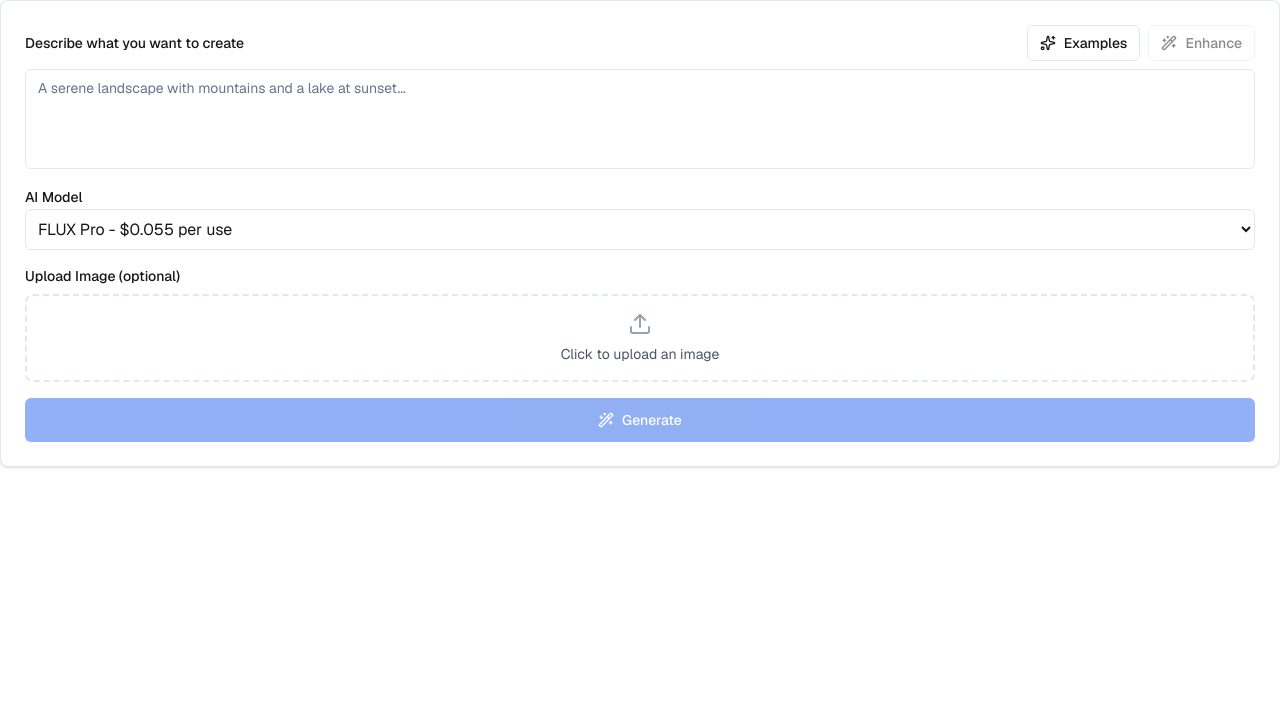
Test: PromptInput Component › shows examples when Examples button is clicked
Click the button "Examples". click: (1084, 43)
box: [1027,25,1140,61]
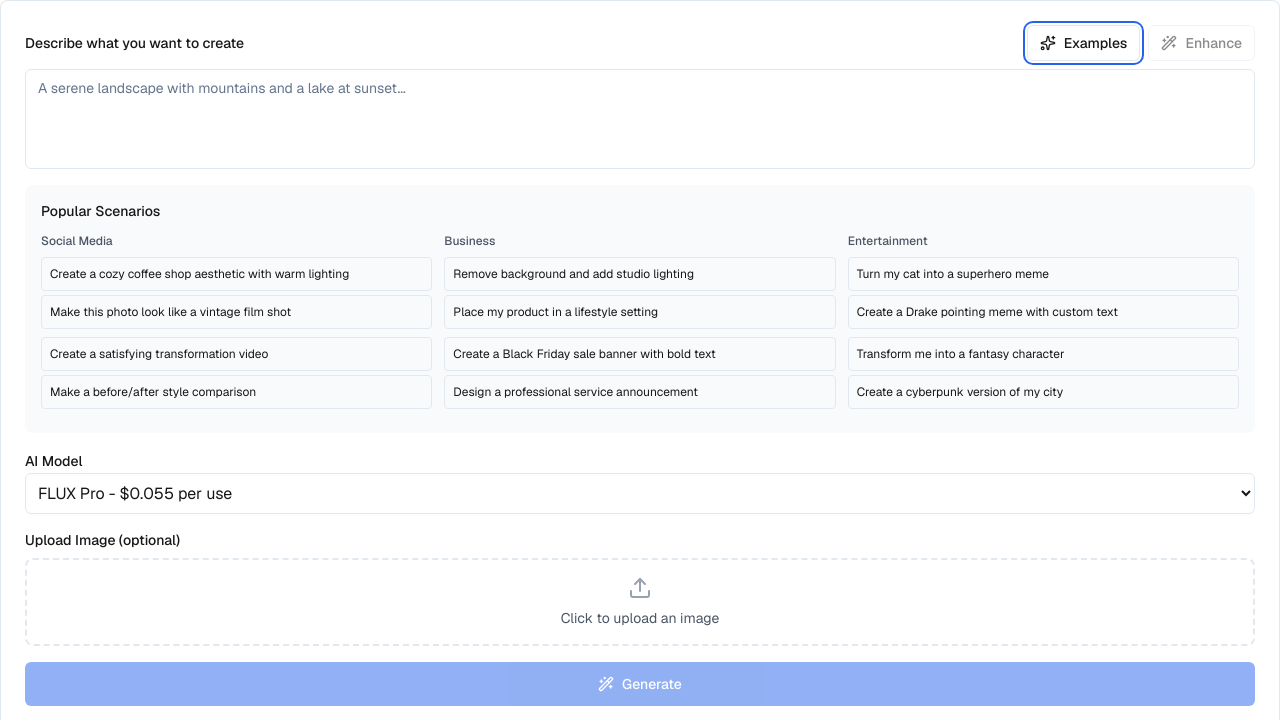
Check: the heading "Popular Scenarios" is shown, box [41,202,160,220]
Check: the heading "Social Media" is shown, box [41,233,113,249]
Check: the heading "Business" is shown, box [444,233,495,249]
